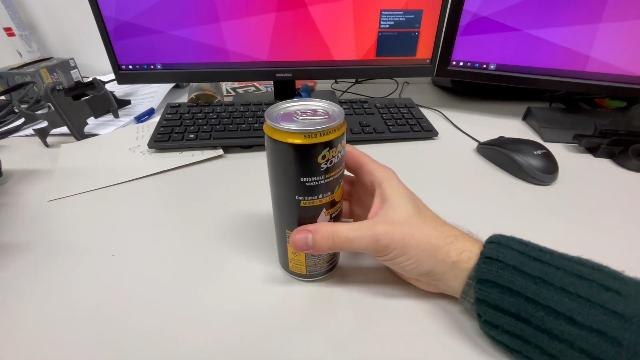OranSoda: (259, 94, 347, 284)
